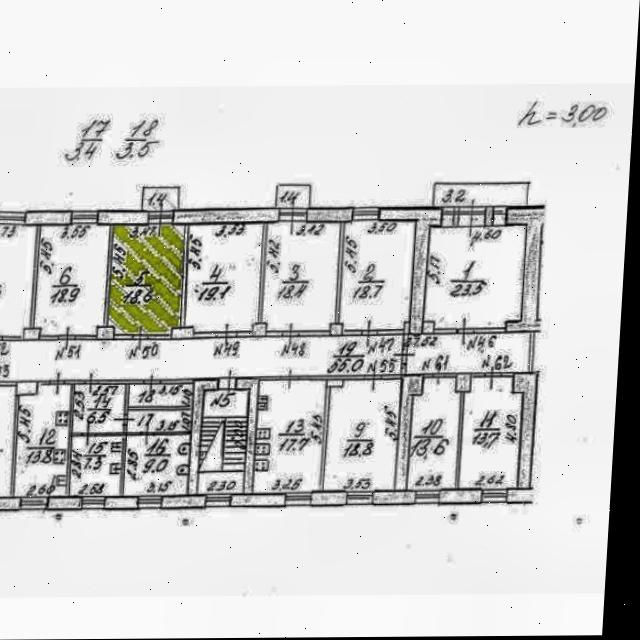room: (0, 334, 404, 381), (423, 220, 526, 334), (323, 375, 402, 497), (183, 219, 263, 336), (338, 216, 416, 335), (252, 375, 327, 498), (261, 219, 340, 335), (33, 221, 110, 340), (107, 222, 184, 338), (458, 374, 524, 492), (14, 382, 71, 500), (407, 375, 461, 493), (198, 388, 249, 496), (406, 334, 531, 373), (0, 225, 37, 336), (123, 435, 190, 496), (68, 433, 124, 500), (71, 383, 127, 433), (433, 184, 528, 207), (0, 385, 16, 496), (128, 383, 192, 407), (126, 410, 191, 432), (142, 187, 179, 210), (276, 185, 310, 208)
